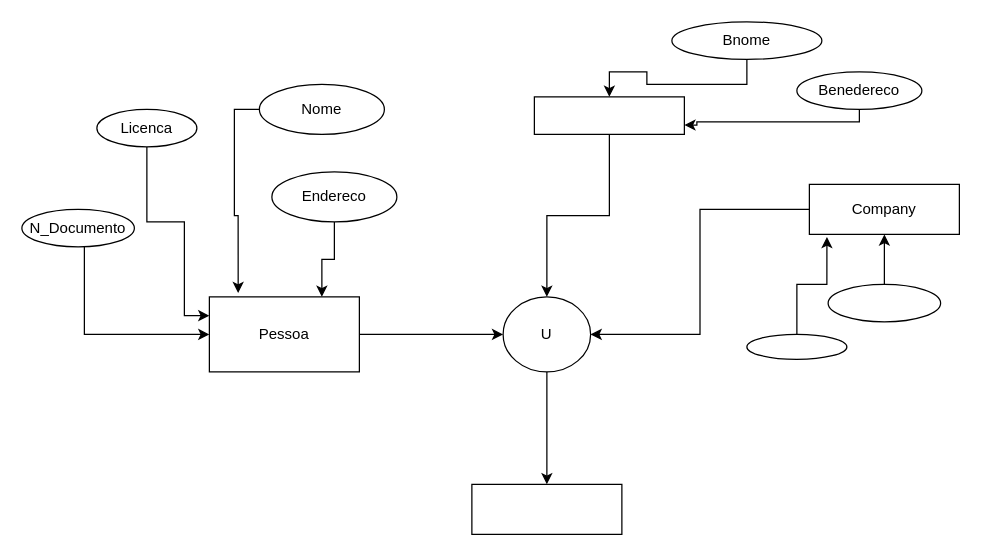
Image size: 981x556. Some labels were removed from this diagram. Here are the shapes that lost their labels. From the top down, the centre of each, then its label:
[608,115]: Banco
[884,302]: Cendereco
[796,346]: Cnome
[546,508]: Owner
